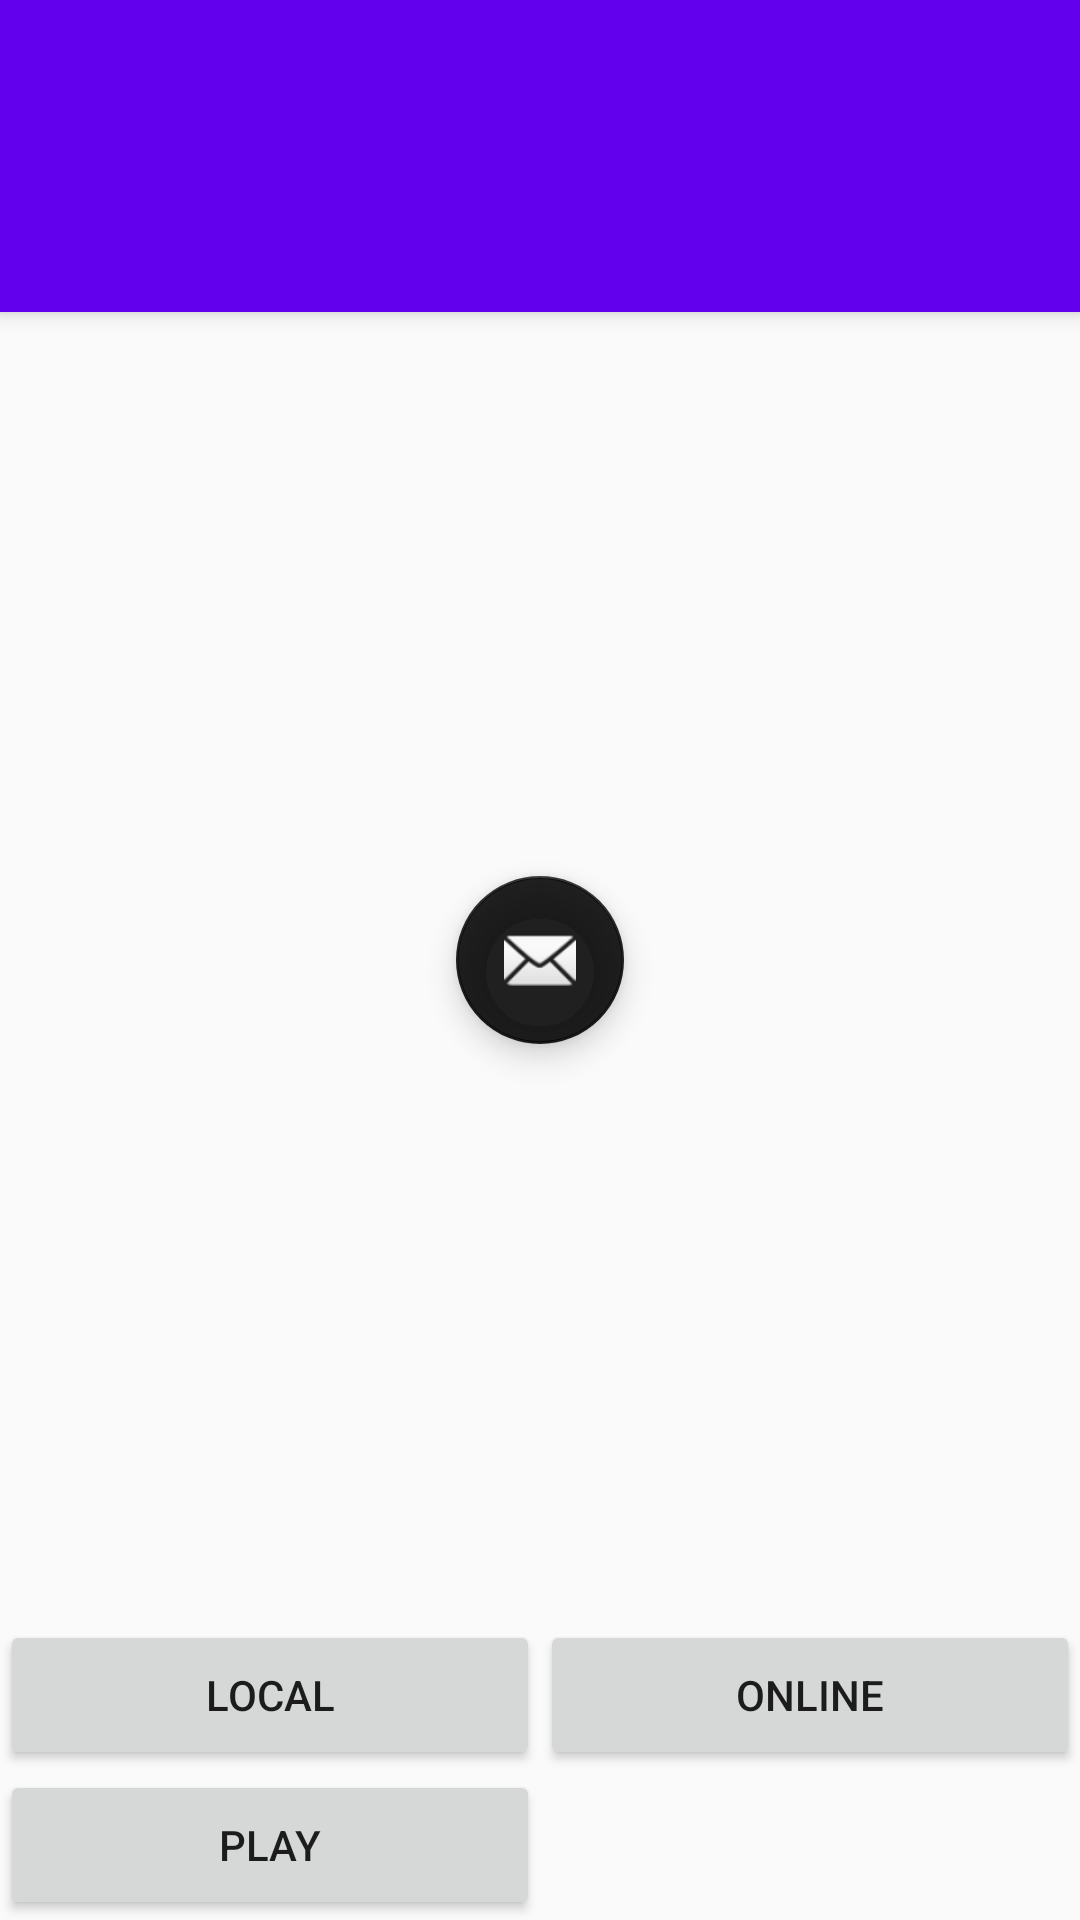

Named icons in this screenshot (1080×1920) and their bounding boxes, bbox=(x1, y1, x2, y2):
email: bbox=(456, 876, 624, 1044)
